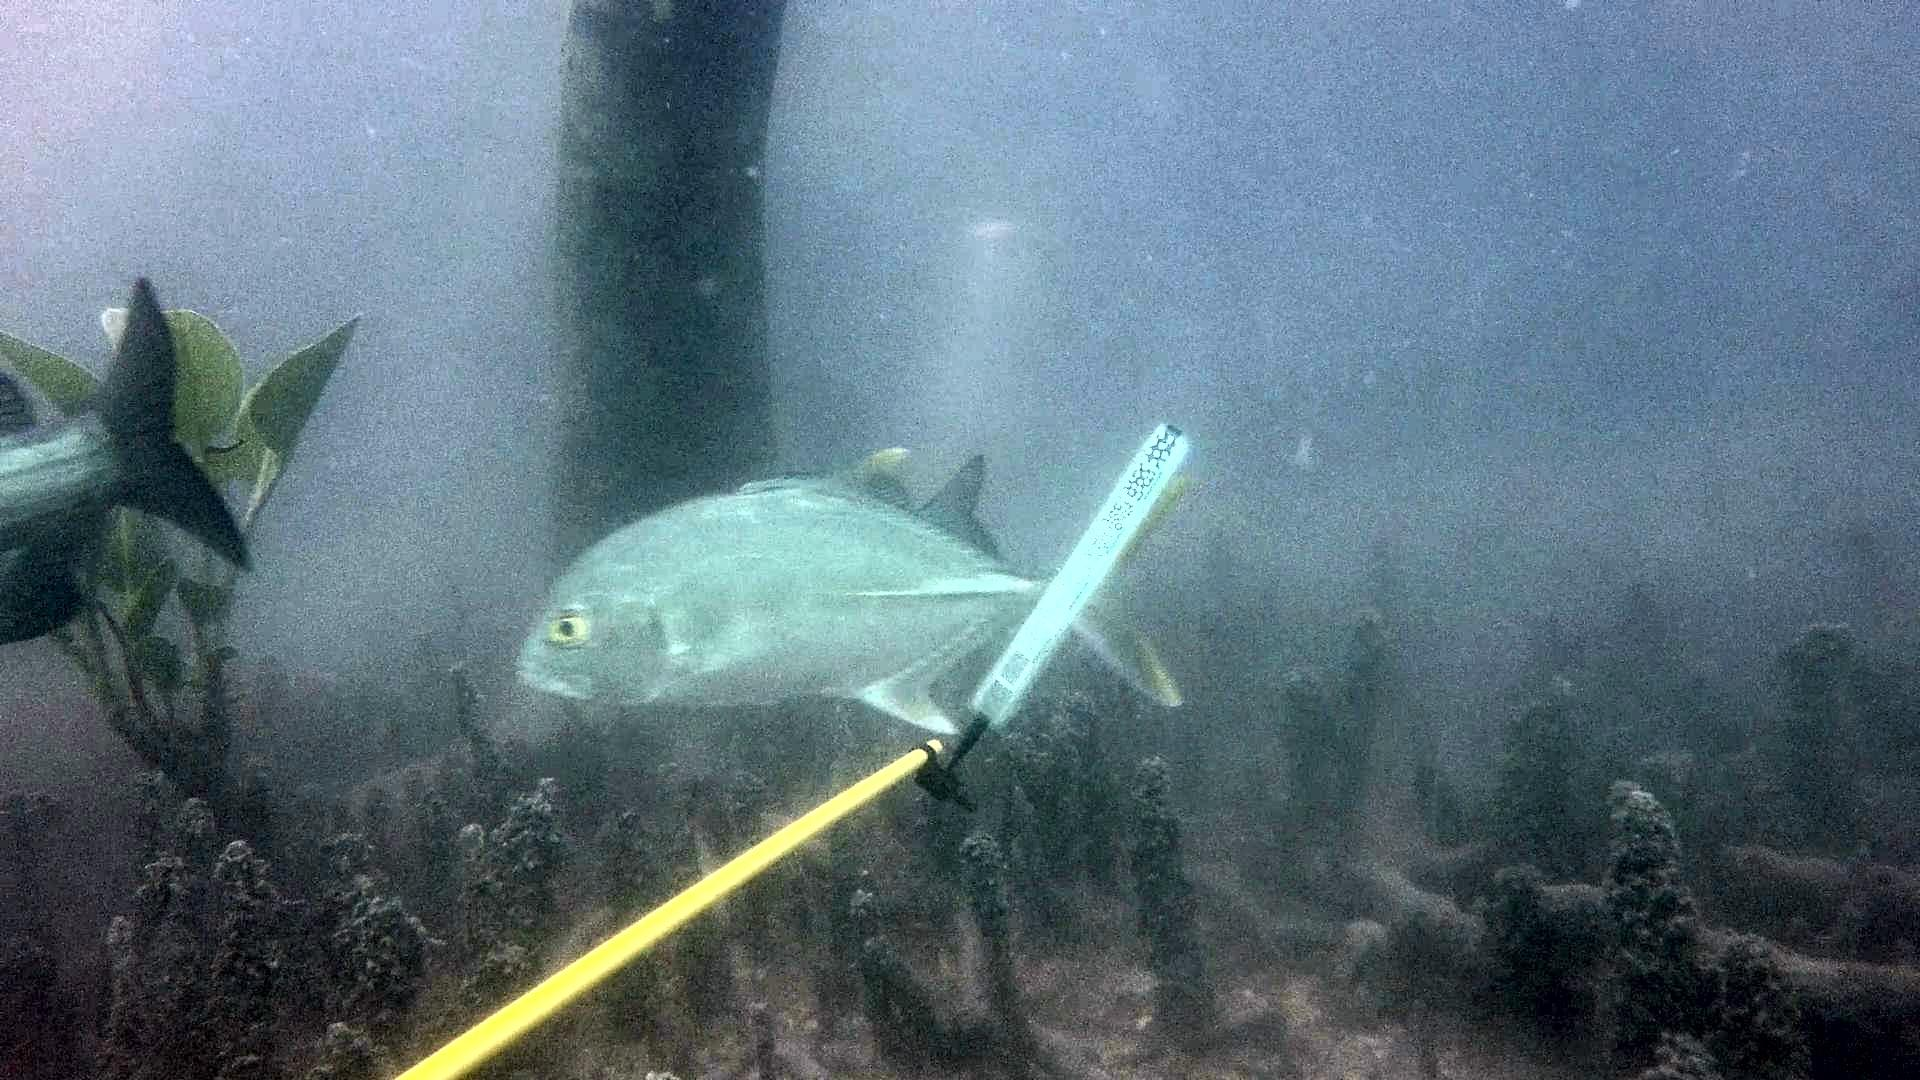acanthopagrus palmaris: (0, 264, 270, 658)
caranx: (513, 435, 1207, 744)
